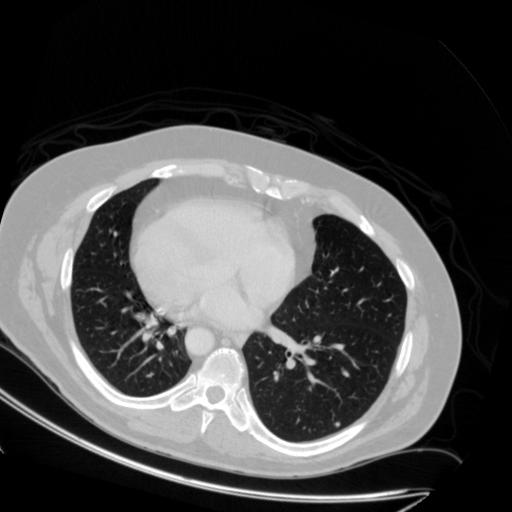nodule: (334, 418, 346, 430)
